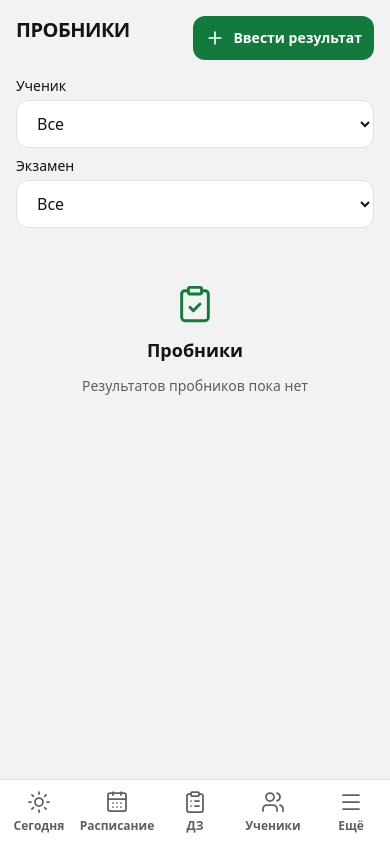
Test: Пробники: форма ввода › балл выше максимума: ошибка поля, запрос не уходит
Check: the text "Результатов пробников пока нет" is shown, box [82,376,308,396]
Click the button "Ввести результат" at (284, 38), box [193,16,374,60]
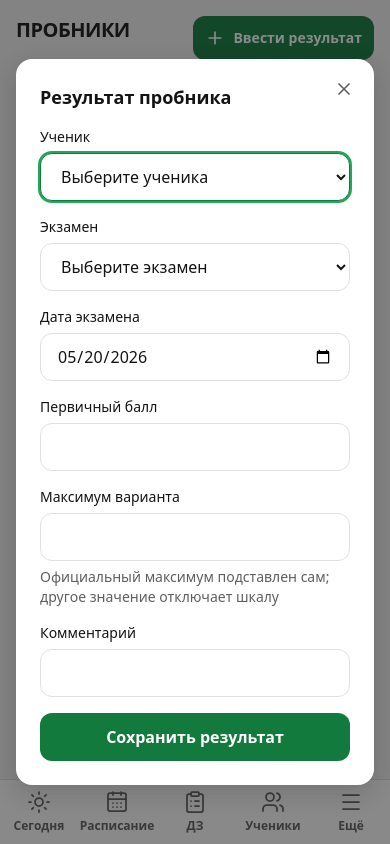
Select "Аня Иванова" in the dropdown labelled "Ученик" at (195, 177), box [40,153,350,201]
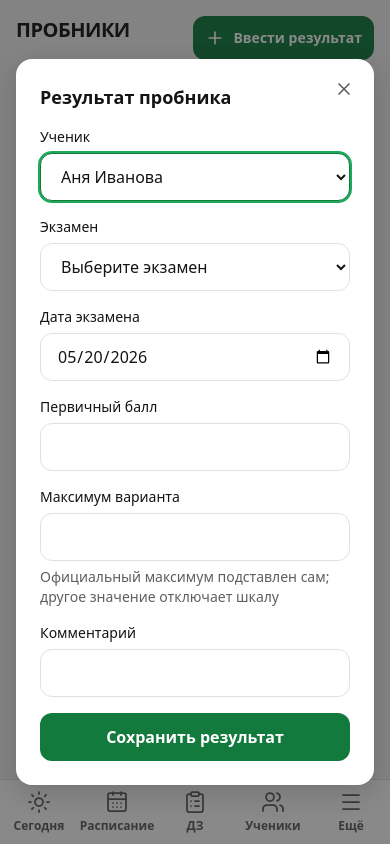
Select "ЕГЭ — Информатика" in the dropdown labelled "Экзамен" at (195, 267), box [40,243,350,291]
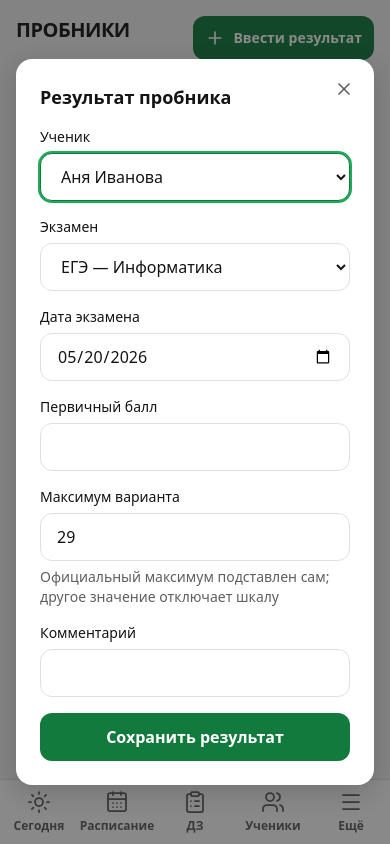
Type "30" into the field labelled "Первичный балл" at (195, 447), box [40,423,350,471]
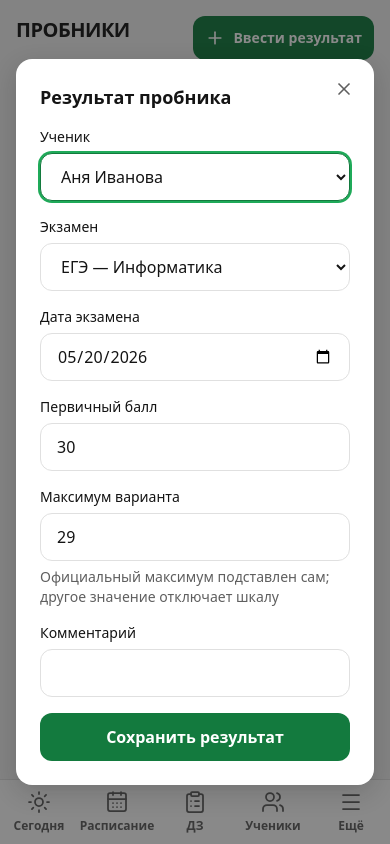
Click the button "Сохранить результат" at (195, 737), box [40,713,350,761]
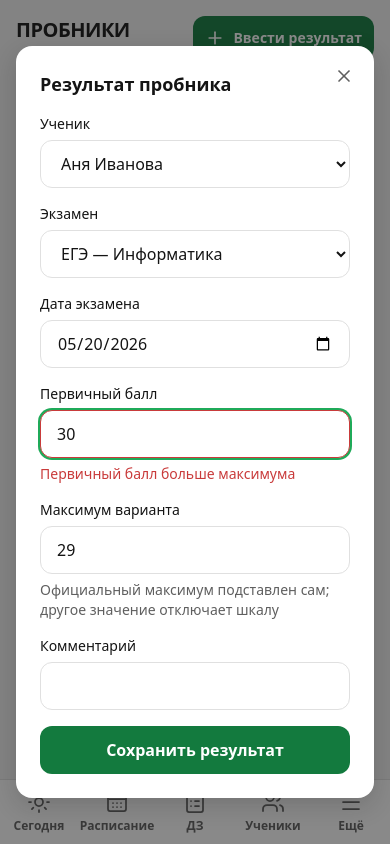
Check: the text "Первичный балл больше максимума" is shown, box [40,464,295,483]
